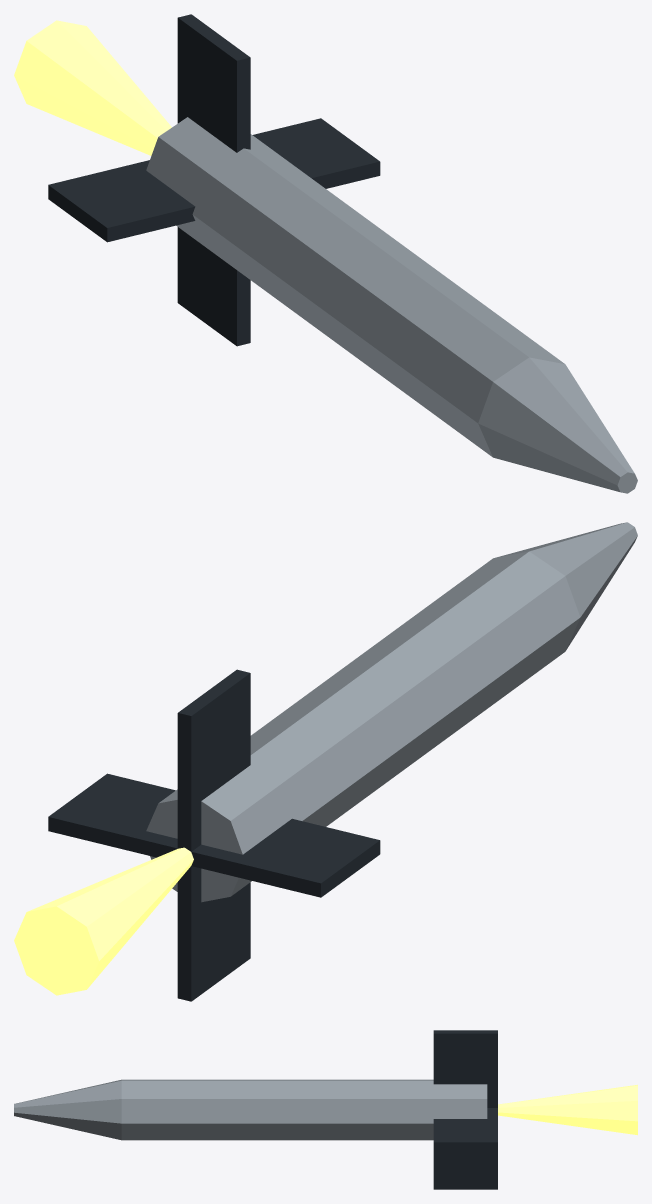
The model's file is arena_proj_rocket.glb.
3 renders of one model, top to bottom at view 1: azimuth 30°, elevation 25°; view 2: azimuth 150°, elevation 25°; view 3: azimuth 270°, elevation 25°, orthographic. The views are drawn at different scales.
Visible parts, largest first — view 1: body, fins, flame; view 2: body, fins, flame; view 3: body, fins, flame.
Boxes of the visible parts, x1,y1,x2,y2 form: body: (146, 117, 637, 493); fins: (48, 14, 380, 346); flame: (14, 20, 171, 155); body: (146, 522, 637, 902); fins: (48, 669, 380, 1001); flame: (14, 847, 193, 995); body: (14, 1079, 487, 1140); fins: (433, 1030, 497, 1189); flame: (498, 1084, 637, 1135).
Bounding box in the file's own units: 1.6 × 1.6 × 5.8.
